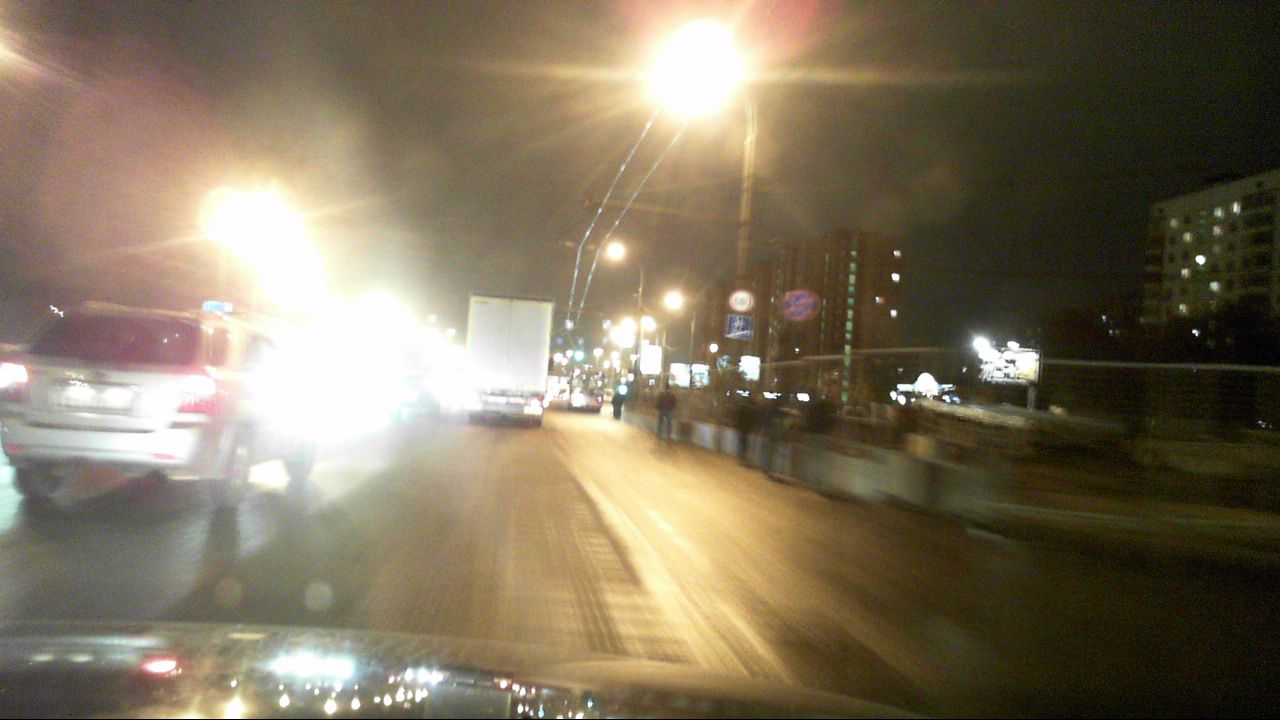No Parking: (782, 289, 817, 322)
